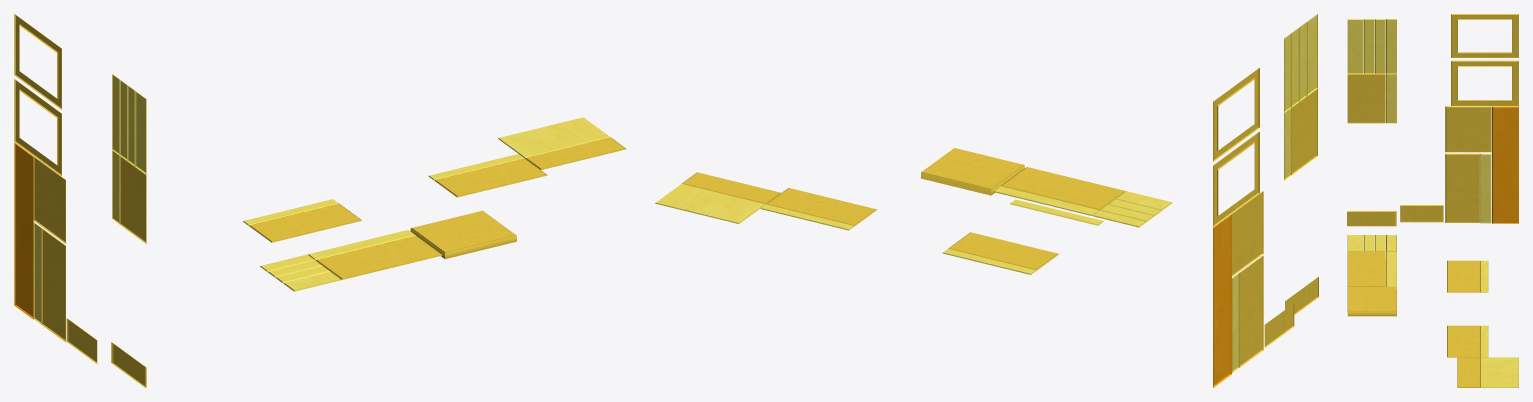
File: nt_2020_house_01_cabinet_reflection_LOD0.obj
3 renders of one model, left to right at view 1: azimuth 30°, elevation 25°; view 2: azimuth 150°, elevation 25°; view 3: azimuth 270°, elevation 25°, orthographic. The views are drawn at different scales.
Parts seen in each view (by area): view 1: nt_2020_formica_green; view 2: nt_2020_formica_green; view 3: nt_2020_formica_green.
Part boxes in pixels (x1,y1,x2,y2): nt_2020_formica_green: (14, 14, 626, 387); nt_2020_formica_green: (655, 14, 1318, 387); nt_2020_formica_green: (1347, 14, 1518, 387).
Bounding box in the file's own units: 865 × 424 × 315.
Materials: 1 (1 with a texture image).
